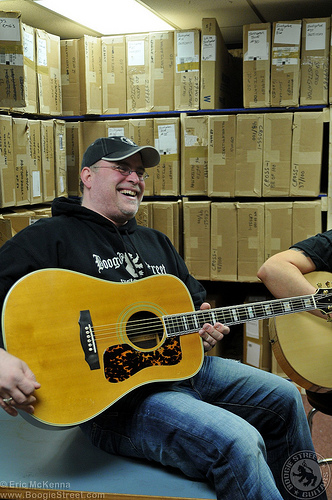guitar: (1, 269, 332, 430)
